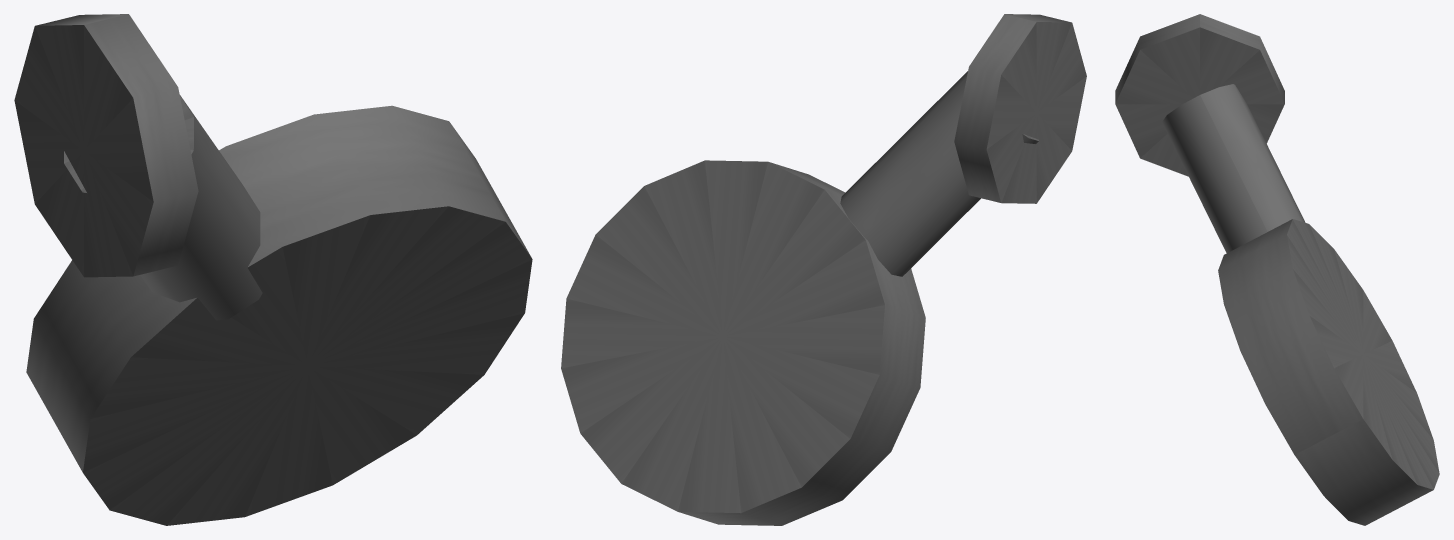
The model's file is mastarmcurve_6x2_c1_west.obj.
3 renders of one model, left to right at view 1: azimuth 30°, elevation 25°; view 2: azimuth 150°, elevation 25°; view 3: azimuth 270°, elevation 25°, orthographic. The views are drawn at different scales.
Parts seen in each view (by area): view 1: mastarm_6x2_c1_west; view 2: mastarm_6x2_c1_west; view 3: mastarm_6x2_c1_west.
Boxes of the visible parts, x1,y1,x2,y2 form: mastarm_6x2_c1_west: [14, 14, 532, 525]; mastarm_6x2_c1_west: [561, 14, 1086, 525]; mastarm_6x2_c1_west: [1115, 14, 1439, 525].
Bounding box in the file's own units: 0.8672 × 1.06 × 0.7652.
